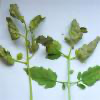Tomato mold leaf: (23, 66, 58, 91), (35, 34, 62, 60), (74, 35, 99, 63), (66, 16, 83, 42), (80, 64, 99, 85)
